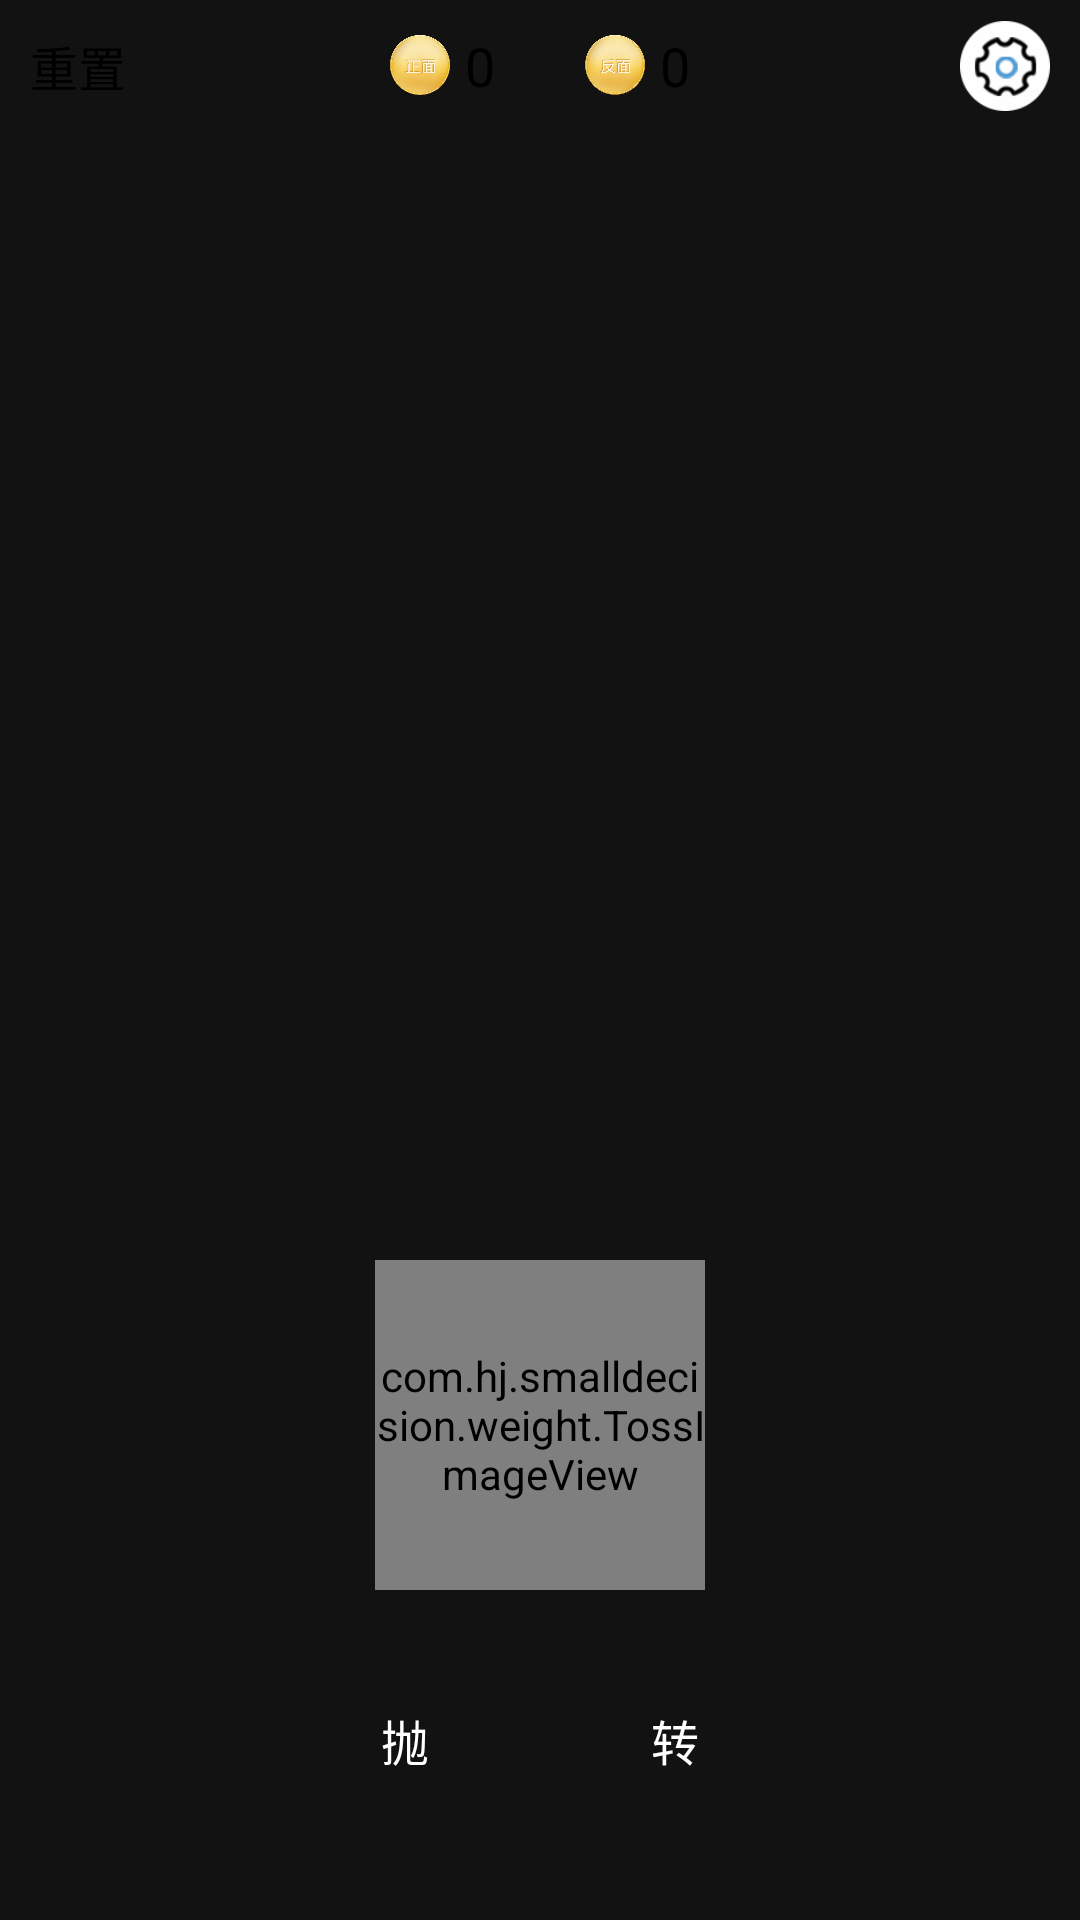

Icon bounding boxes for this 1080px x 1920px phone screenshot, format (x1,y1,x2,y2):
setting: (960,21,1050,111)
